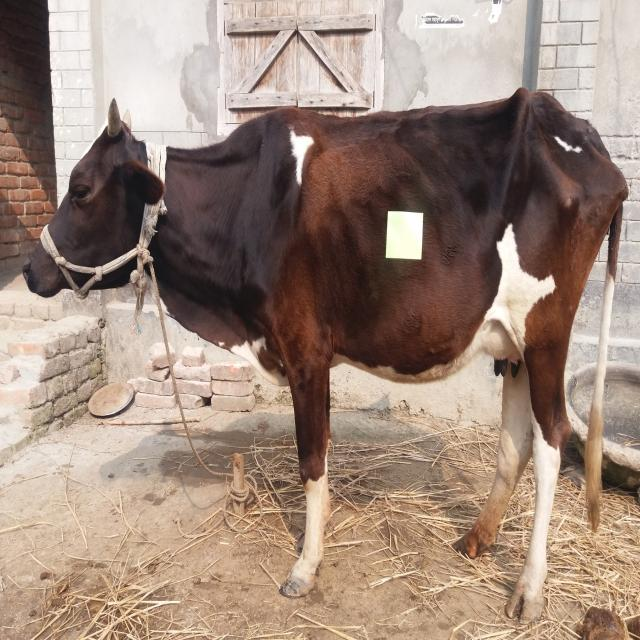badan_sapi: (18, 79, 638, 629)
sapi: (236, 99, 618, 388)
